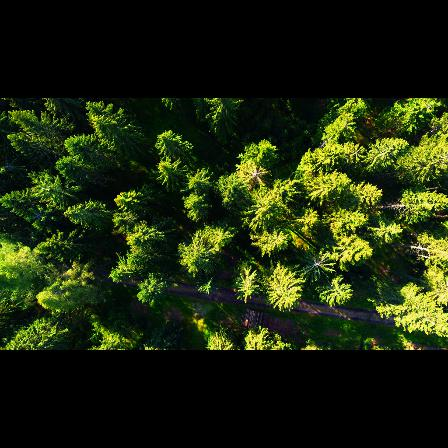Sick: (298, 249, 337, 282), (28, 205, 48, 227)
